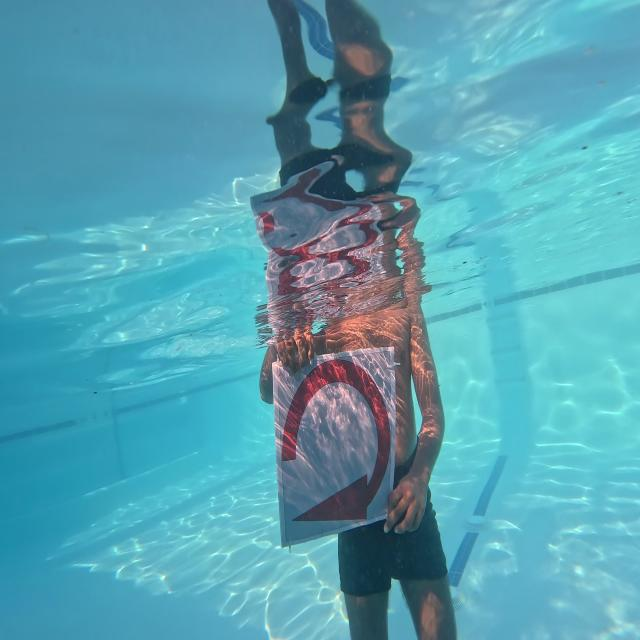red_side: (273, 359, 398, 545)
